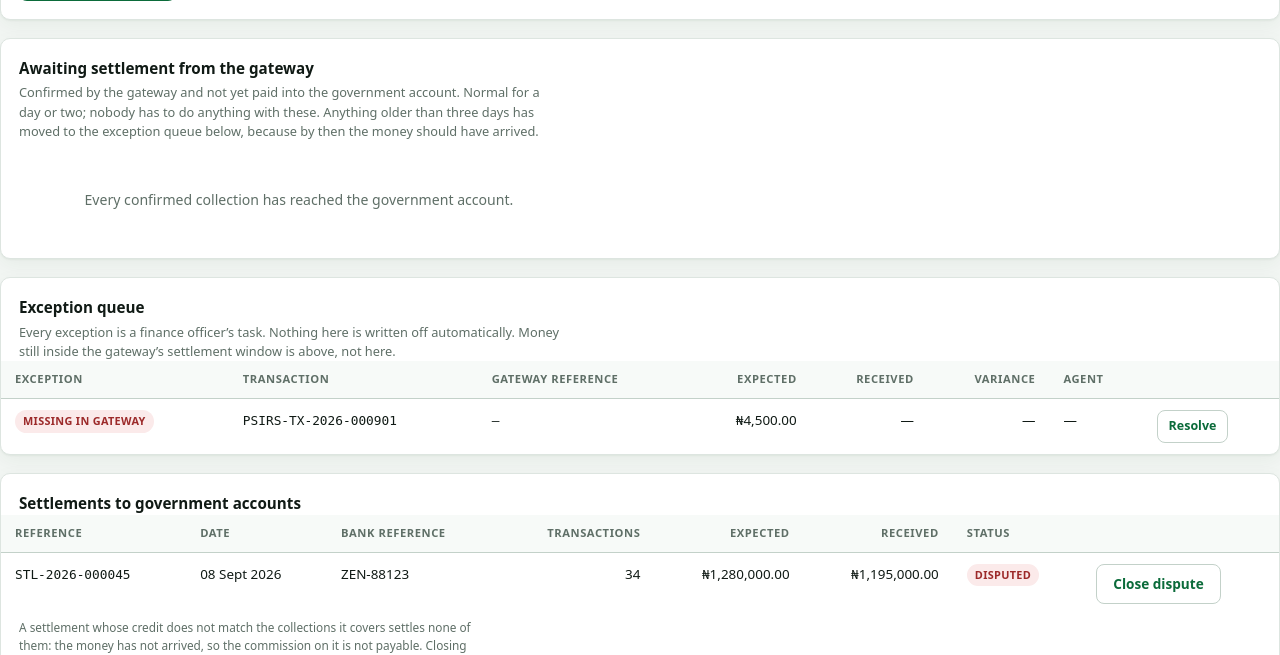
Test case: three answers the screen can use › shows the refusal when a second officer is required and this is the first
This screenshot has width=1280, height=655.
(page scrolled)
Expected: the text "STL-2026-000045" is shown, [15,567,131,582]
Click the button "Close dispute".
click(1158, 584)  # box [1096,564,1221,604]
(page scrolled)
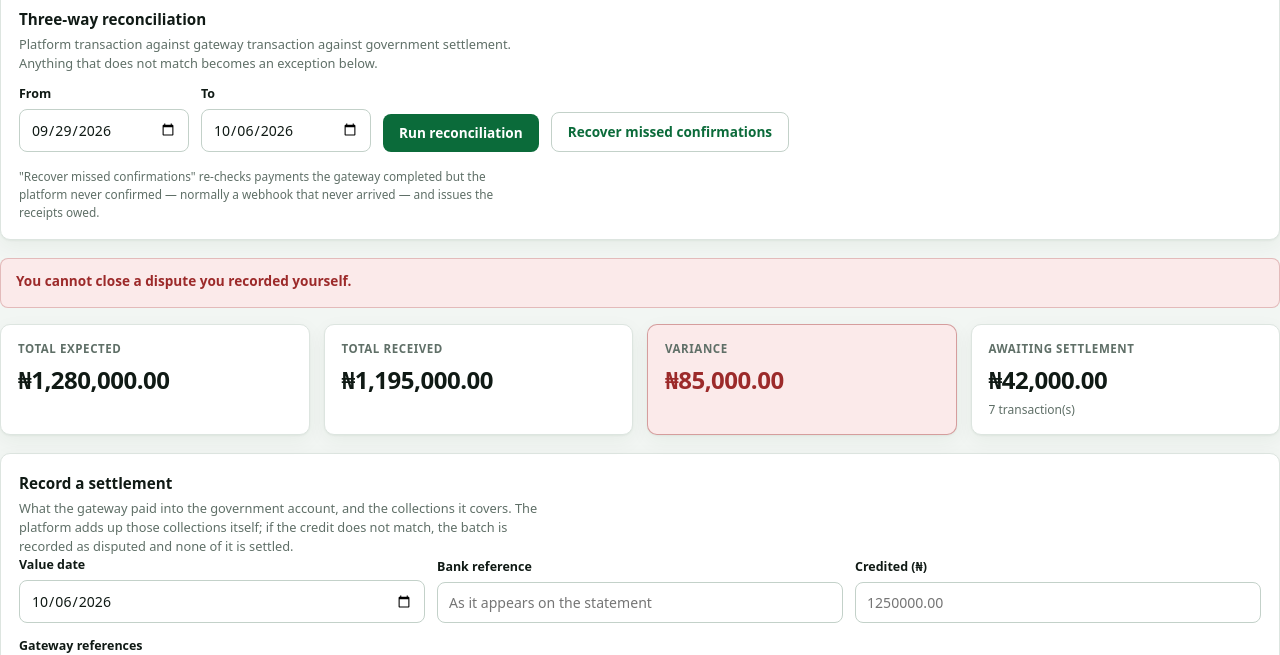
Expected: the text "You cannot close a dispute you recorded yourself." is shown, [16,271,351,290]
